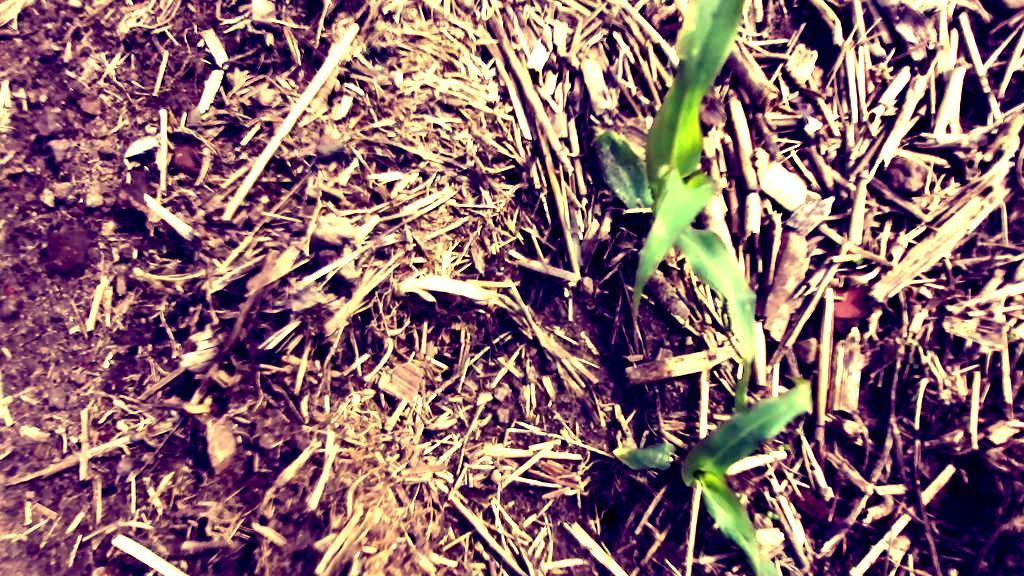BroWeed: (116, 129, 162, 168), (163, 105, 184, 129), (1008, 322, 1024, 340), (850, 252, 867, 268), (124, 156, 143, 170), (765, 509, 780, 522), (770, 450, 787, 461), (163, 121, 176, 135), (907, 356, 920, 369), (732, 491, 746, 503), (98, 172, 114, 182), (906, 337, 920, 346), (777, 443, 791, 451), (168, 151, 173, 166), (161, 245, 167, 253)
Maize: (593, 343, 819, 576)
